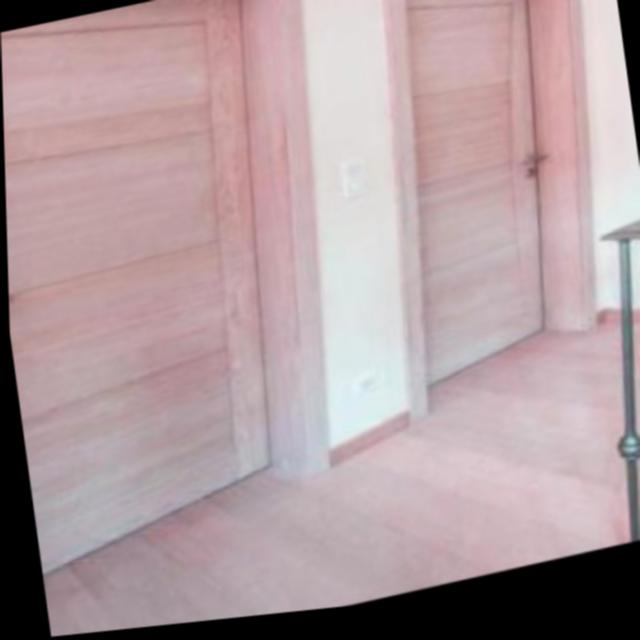door_handle: (511, 155, 560, 195), (6, 275, 31, 318)
